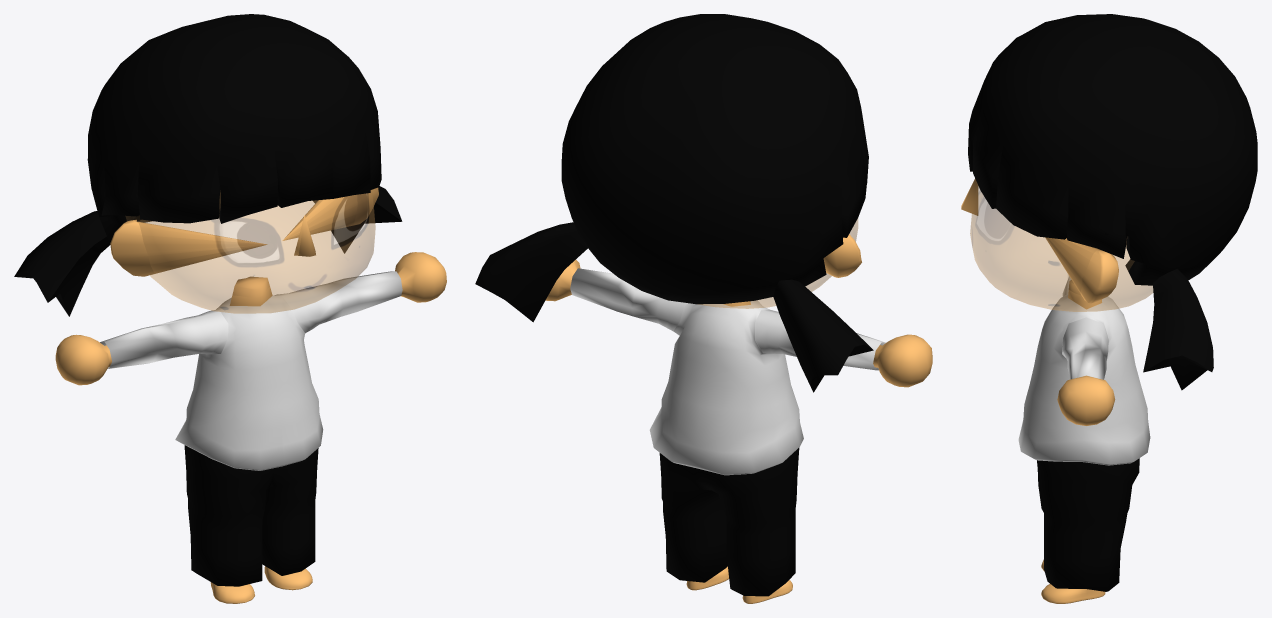
Rendered from char_01_test2.glb.
The picture shows the model from 3 angles, left to right: view 1: azimuth 30°, elevation 25°; view 2: azimuth 150°, elevation 25°; view 3: azimuth 270°, elevation 25°; orthographic projection. The views are drawn at different scales.
Visible parts, largest first — view 1: _001_girl03b, chest.011, head.006, pants.006, chest.012, ear.006, legs.006; view 2: _001_girl03b, chest.011, pants.006, chest.012, ear.006, legs.006, head.006; view 3: _001_girl03b, chest.011, pants.006, head.006, ear.006, chest.012, legs.006, nose.006.
Part boxes in pixels (x1,y1,x2,y2): _001_girl03b: (14,14,402,316); chest.011: (55,252,446,470); head.006: (126,190,375,313); pants.006: (184,445,318,586); chest.012: (100,271,402,368); ear.006: (110,187,378,276); legs.006: (210,566,312,603); _001_girl03b: (475,14,873,392); chest.011: (545,259,932,475); pants.006: (659,447,799,596); chest.012: (570,268,885,370); ear.006: (823,234,861,277); legs.006: (686,566,792,603); head.006: (699,219,857,308); _001_girl03b: (968,14,1257,390); chest.011: (1018,280,1150,465); pants.006: (1037,458,1139,591); head.006: (970,184,1152,311); ear.006: (1045,237,1118,303); chest.012: (1062,274,1108,379); legs.006: (1041,559,1105,603); nose.006: (961,178,978,215).
Bounding box in the file's own units: 1.51 × 2.05 × 1.
Materials: 5 (1 with a texture image).
